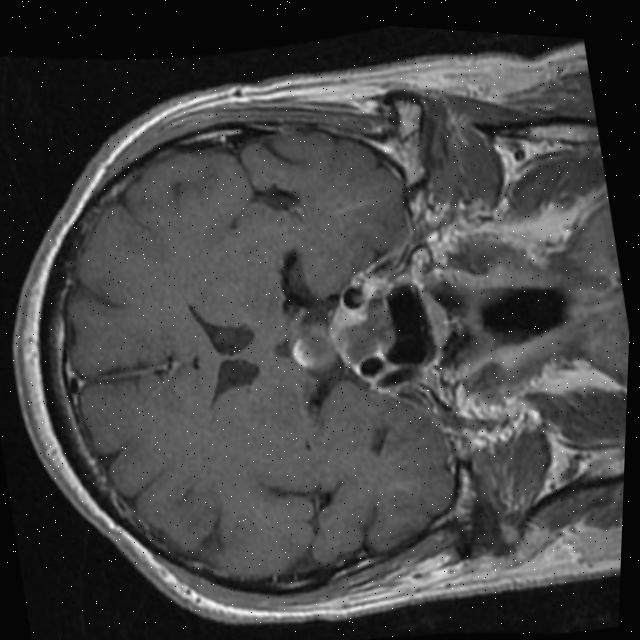Pituitary: (282, 289, 402, 380)
